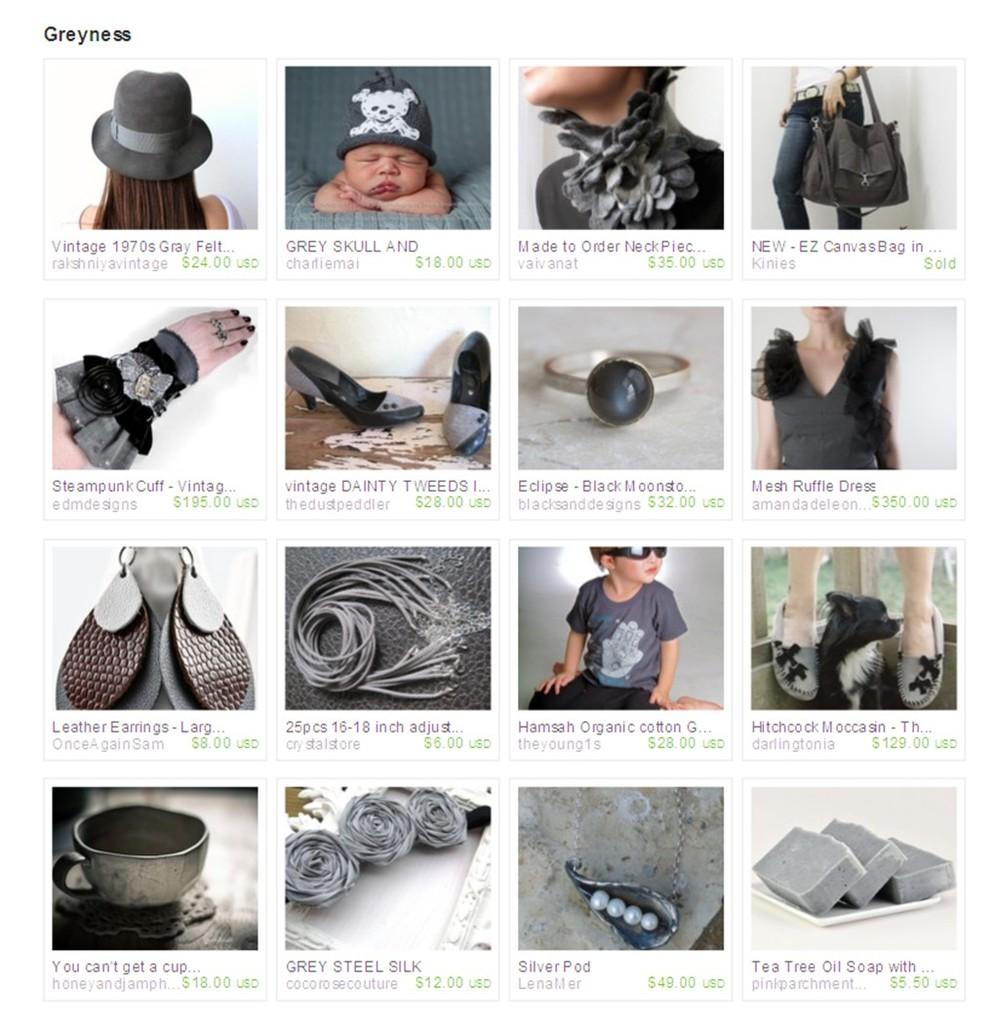Luggage-and-bags: (798, 67, 909, 215)
